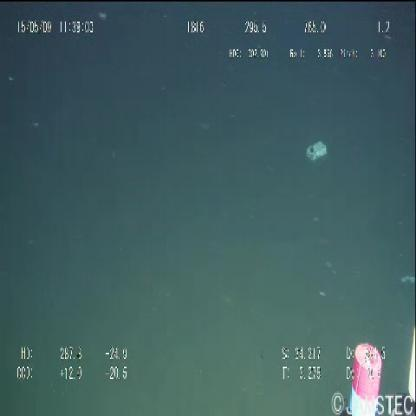Rác: (306, 142, 328, 164)
